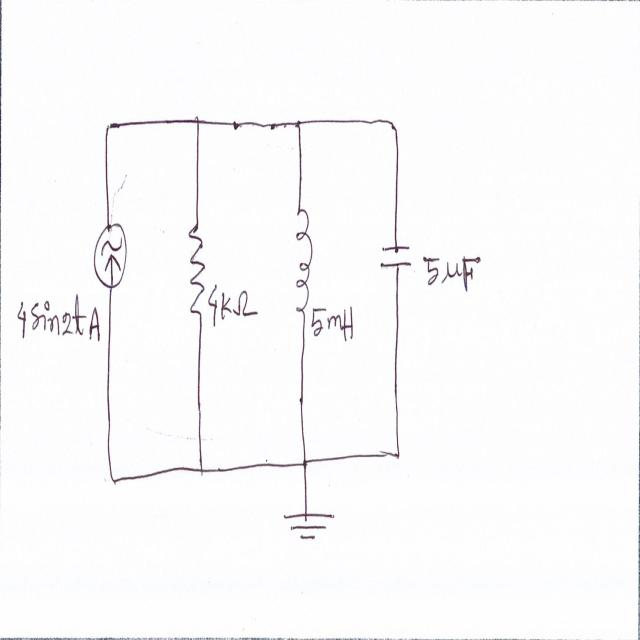capacitor: (377, 240, 415, 272)
current_source: (90, 220, 128, 290)
ground: (280, 509, 338, 550)
inductor: (293, 206, 313, 325)
resistor: (188, 220, 208, 321)
